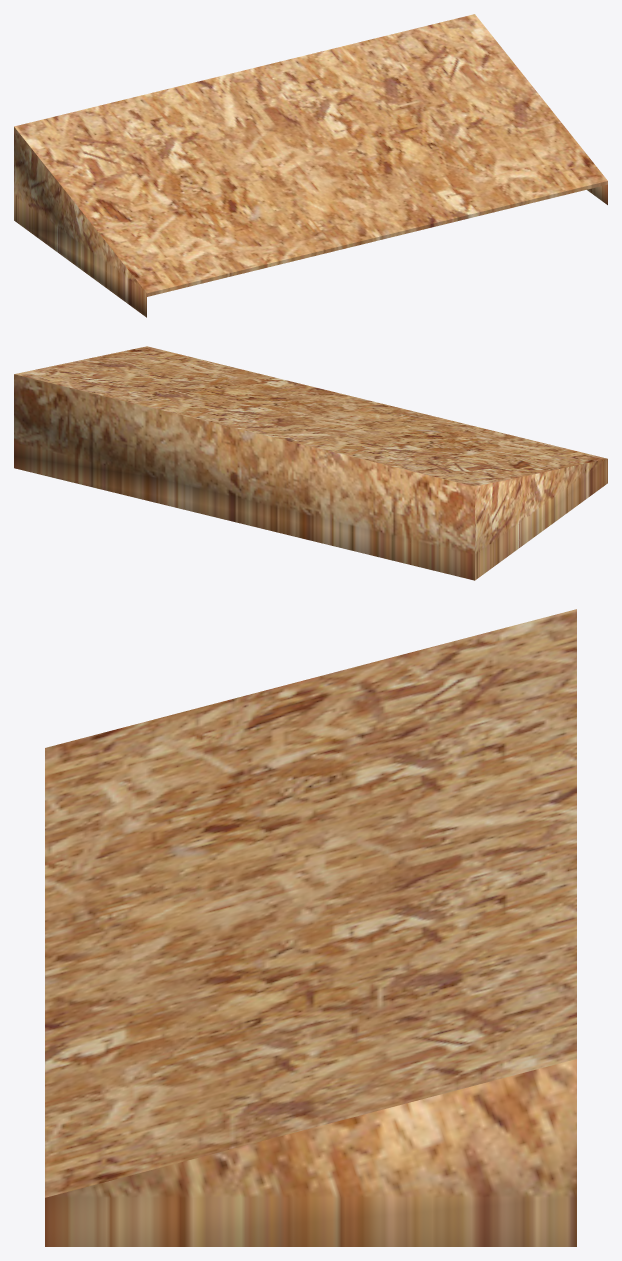
The model's file is half_ramp_semi_elevated.dae.
The picture shows the model from 3 angles, top to bottom: view 1: azimuth 30°, elevation 25°; view 2: azimuth 150°, elevation 25°; view 3: azimuth 270°, elevation 25°; orthographic projection. The views are drawn at different scales.
Parts seen in each view (by area): view 1: Plane; view 2: Plane; view 3: Plane.
Boxes of the visible parts, x1=… form: Plane: x1=14, y1=14, x2=607, y2=317; Plane: x1=14, y1=346, x2=607, y2=580; Plane: x1=45, y1=609, x2=576, y2=1246.
Size of the model in its own units: 1.18 by 0.59 by 0.23.
1 material, 1 textured.
